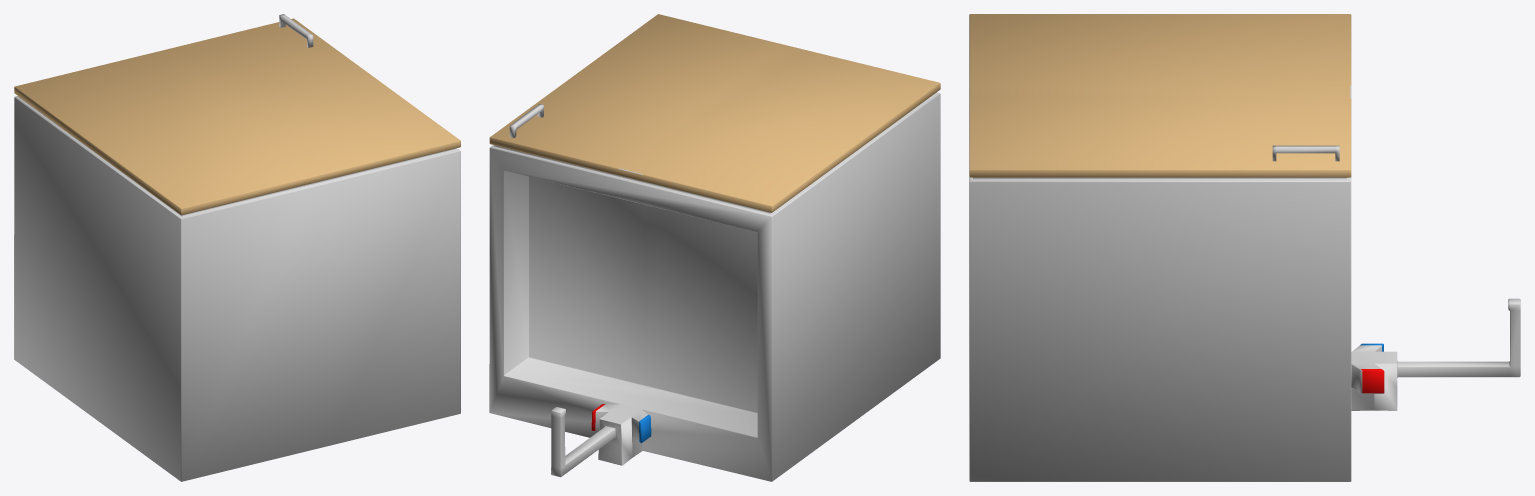
3 renders of one model, left to right at view 1: azimuth 30°, elevation 25°; view 2: azimuth 150°, elevation 25°; view 3: azimuth 270°, elevation 25°, orthographic. The views are drawn at different scales.
Parts seen in each view (by area): view 1: Cube; view 2: Cube; view 3: Cube.
Boxes of the visible parts, bbox=[...] form: Cube: bbox=[14, 14, 460, 481]; Cube: bbox=[489, 14, 940, 481]; Cube: bbox=[969, 14, 1520, 481].
Size of the model in its own units: 60 by 58.34 by 89.5.
